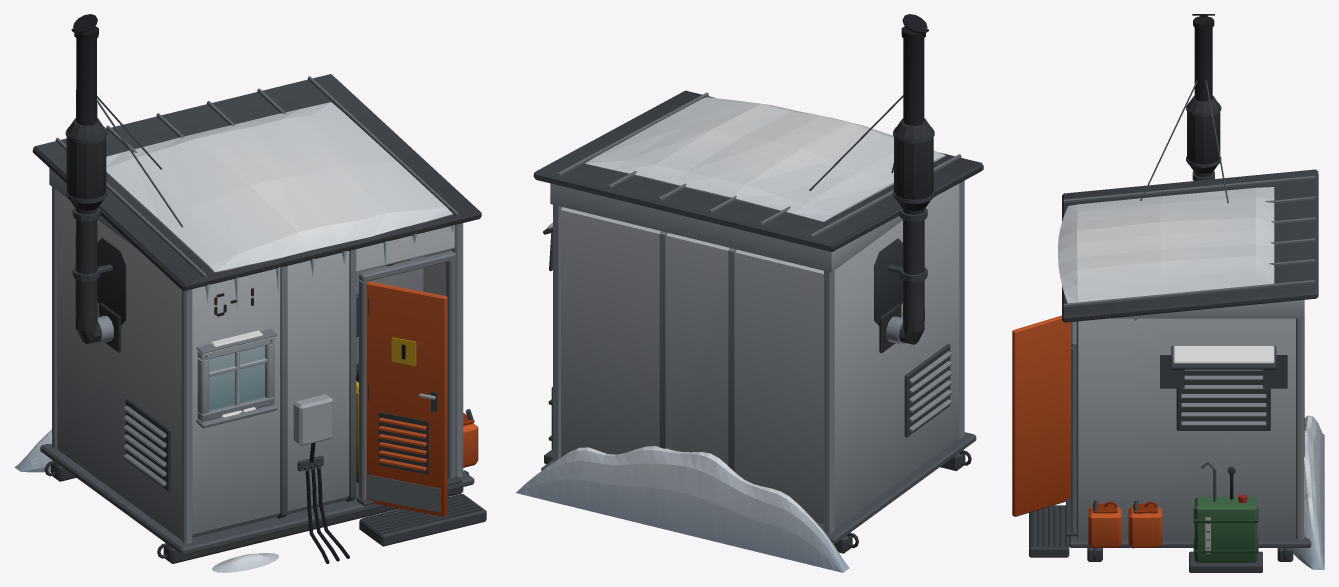
File: generator-hut.glb
The picture shows the model from 3 angles, left to right: view 1: azimuth 30°, elevation 25°; view 2: azimuth 150°, elevation 25°; view 3: azimuth 270°, elevation 25°; orthographic projection. The views are drawn at different scales.
Parts seen in each view (by area): view 1: generator_hut; view 2: generator_hut; view 3: generator_hut.
Part boxes in pixels (x1,y1,x2,y2): generator_hut: (14,14,486,572); generator_hut: (515,14,983,572); generator_hut: (1012,14,1324,572).
Bounding box in the file's own units: 3.08 × 4.18 × 2.79.
